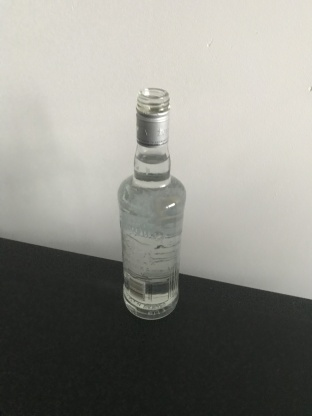nakretka: (134, 85, 171, 147)
